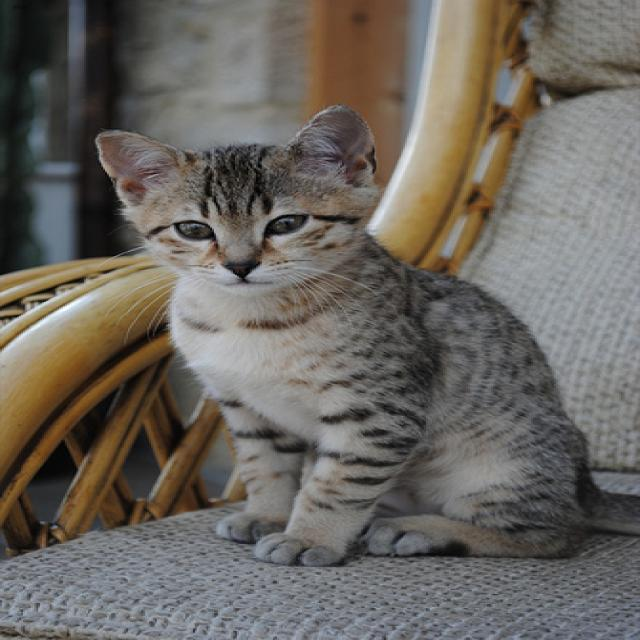Egyptian_Mau: (93, 98, 392, 298)
